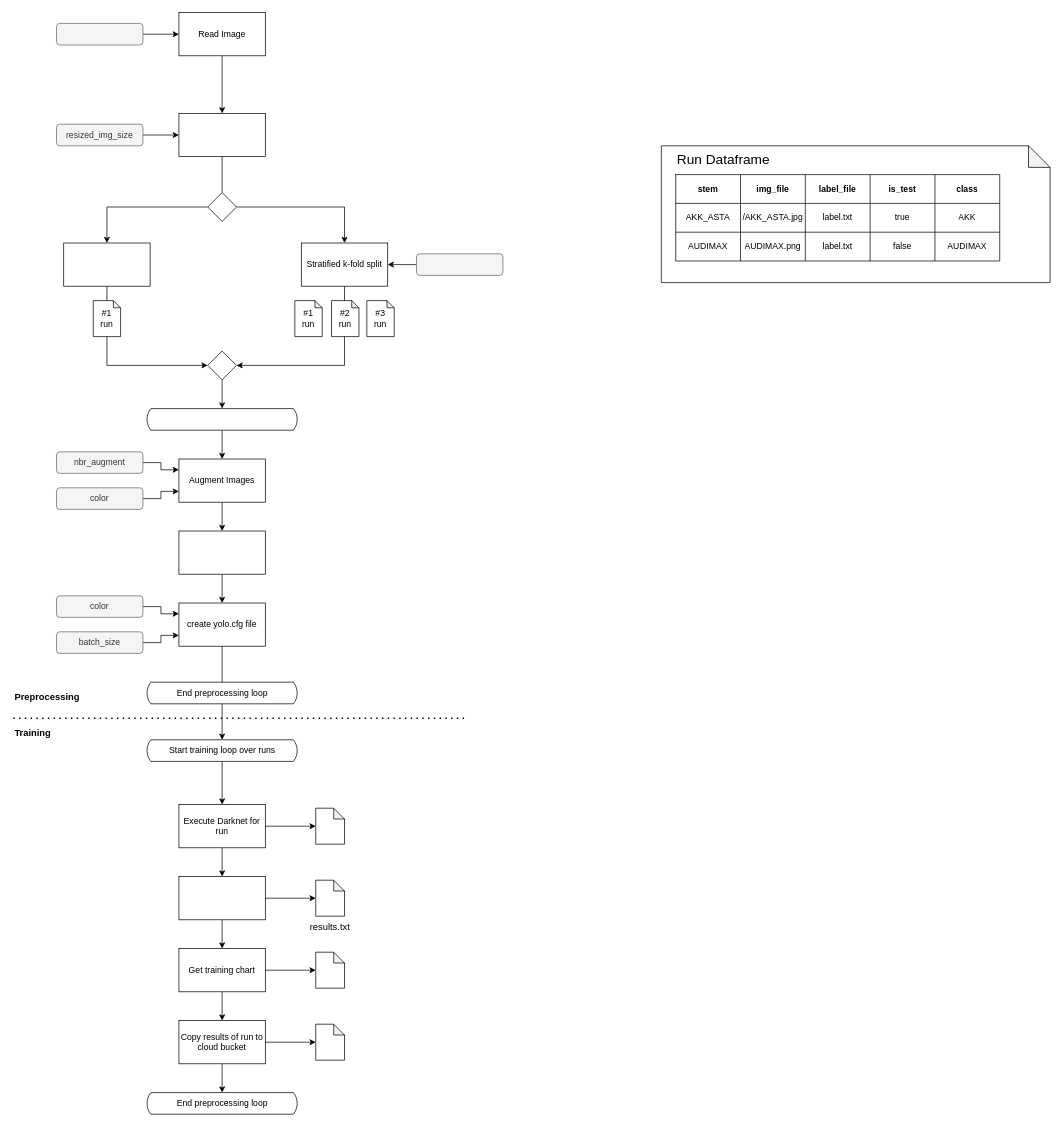
Image size: 1063x1127. Some labels were removed from this diagram. The centre of each missing label's shape, as x and y in pixels:
"Calculate statistics" belongs at point (221, 898).
"chart.png" belongs at point (330, 969).
"create darknet data file" belongs at point (221, 552).
"final.weights" belongs at point (330, 825).
"folds" belongs at point (459, 264).
"input_folder" belongs at point (99, 34).
"Loop over run dataframes" belongs at point (222, 419).
"Resize Images" belongs at point (221, 135).
"run folder" belongs at point (330, 1041).
"Train Test Split (20%)" belongs at point (106, 264).
